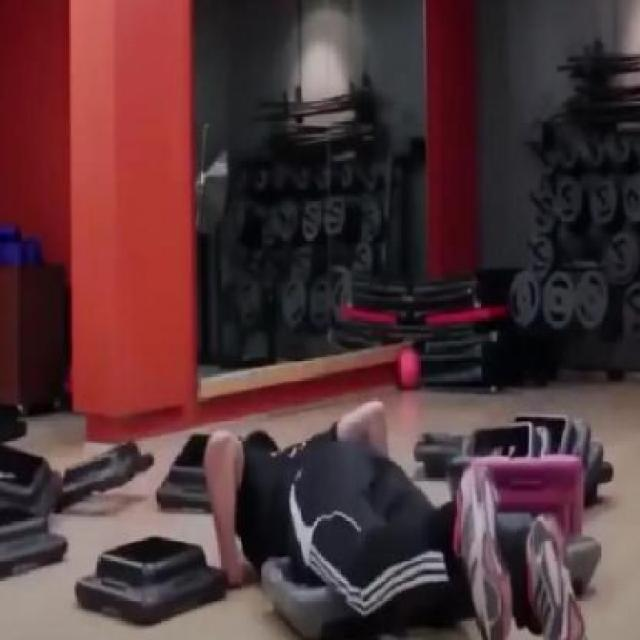fall: (205, 398, 586, 638)
